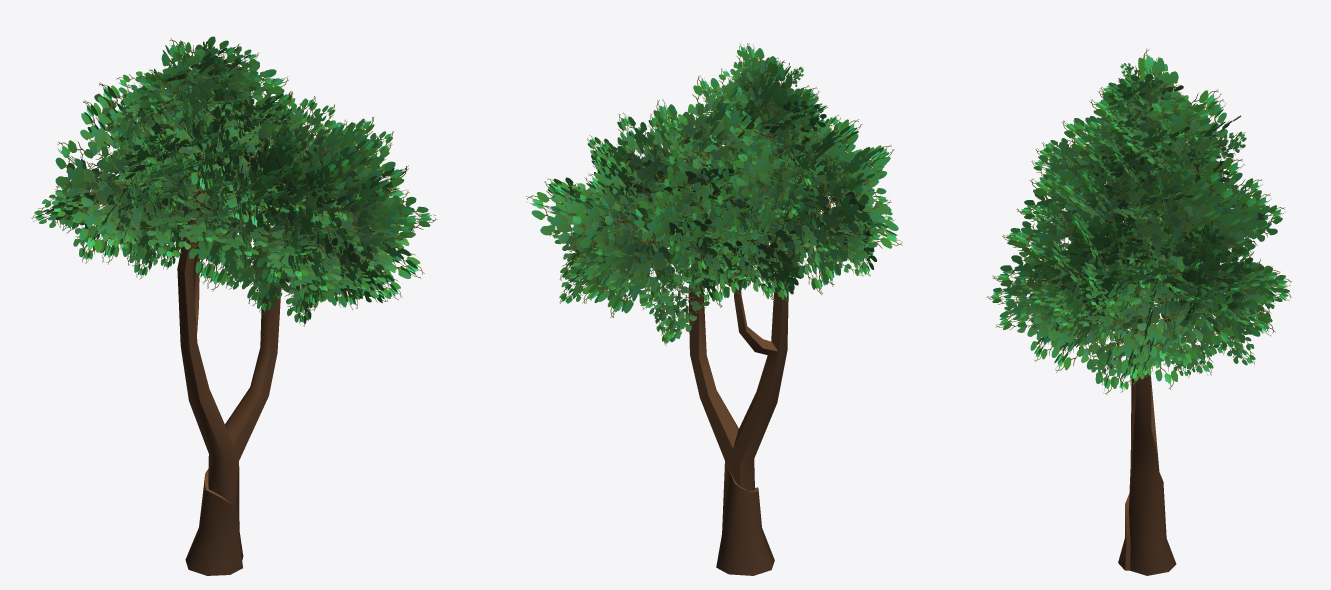
File: Tree_1A.fbx
The picture shows the model from 3 angles, left to right: view 1: azimuth 30°, elevation 25°; view 2: azimuth 150°, elevation 25°; view 3: azimuth 270°, elevation 25°; orthographic projection. The views are drawn at different scales.
Parts seen in each view (by area): view 1: Tree_1A; view 2: Tree_1A; view 3: Tree_1A.
Boxes of the visible parts, bbox=[...] form: Tree_1A: bbox=[31, 36, 437, 575]; Tree_1A: bbox=[526, 43, 902, 575]; Tree_1A: bbox=[987, 48, 1291, 575].
Size of the model in its own units: 644 by 887 by 544.
